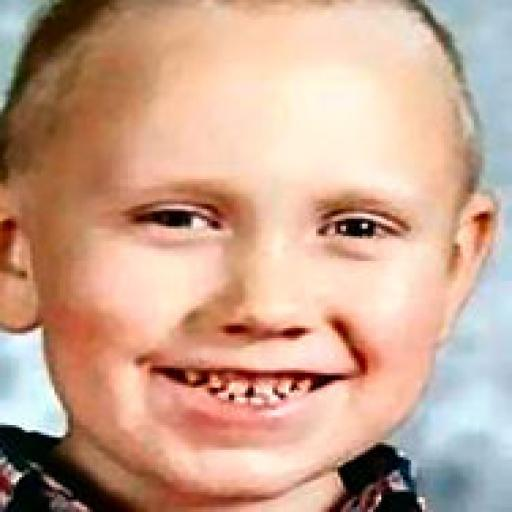Autism: (12, 7, 512, 509)
